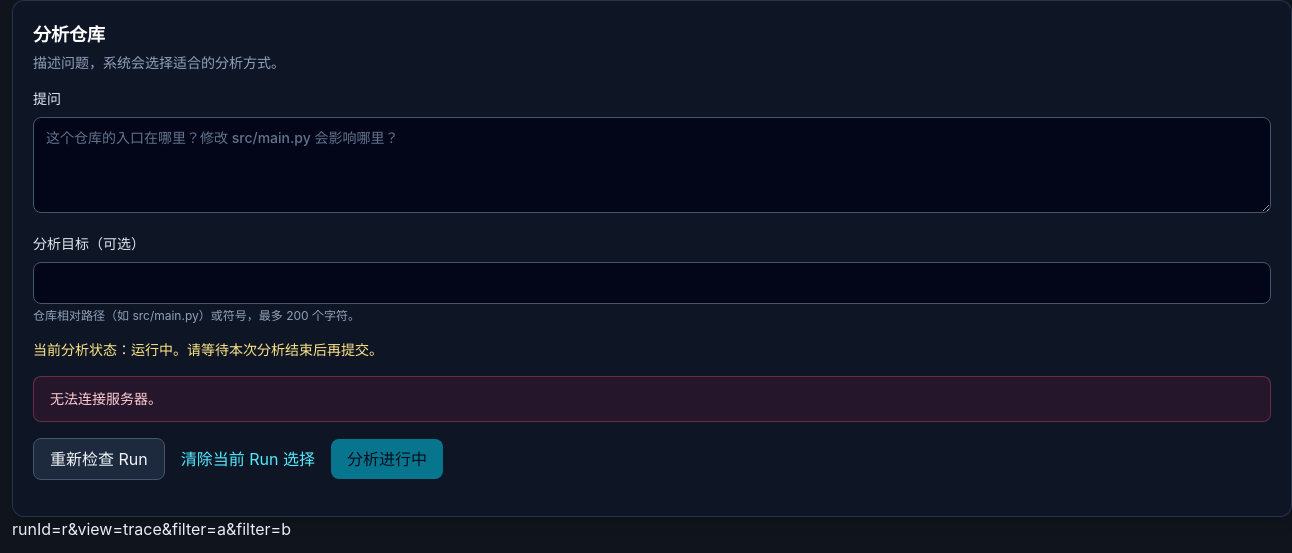
Test case: allows exiting a cached active Run after a failed status refresh
Expected: the message "无法连接服务器。" is shown, top-left (33, 376), bottom-right (1271, 422)
In the text box labelled "提问": (652, 165) top-left (33, 117), bottom-right (1271, 213), type "Question"
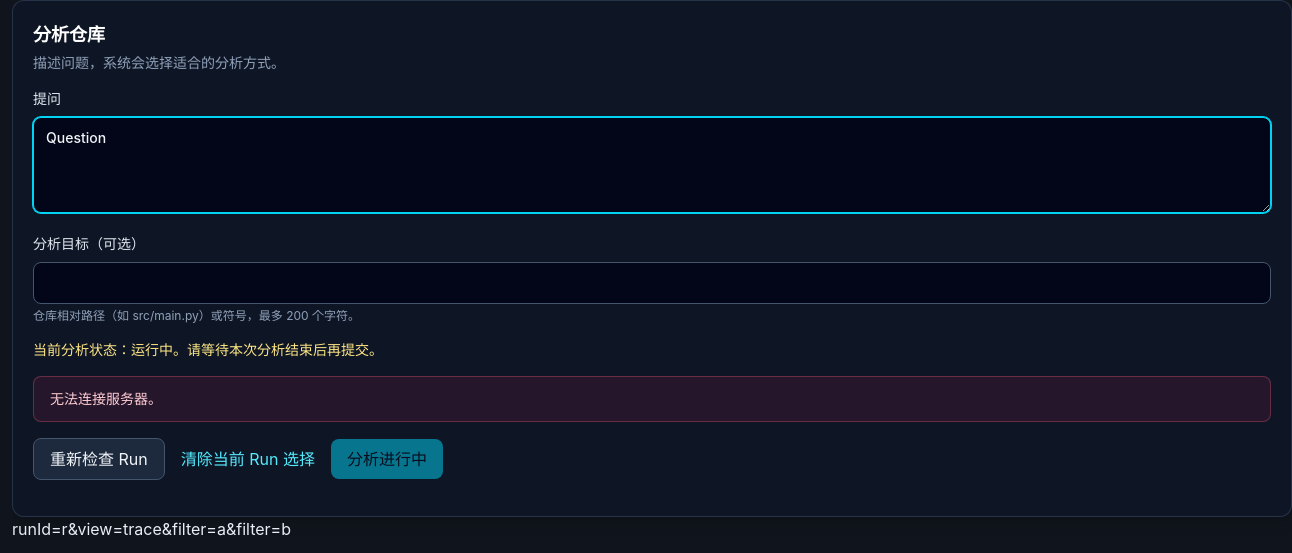
Expected: the button "分析进行中" is disabled, top-left (331, 439), bottom-right (443, 479)
Click the button "清除当前 Run 选择": (248, 459) top-left (165, 439), bottom-right (331, 479)
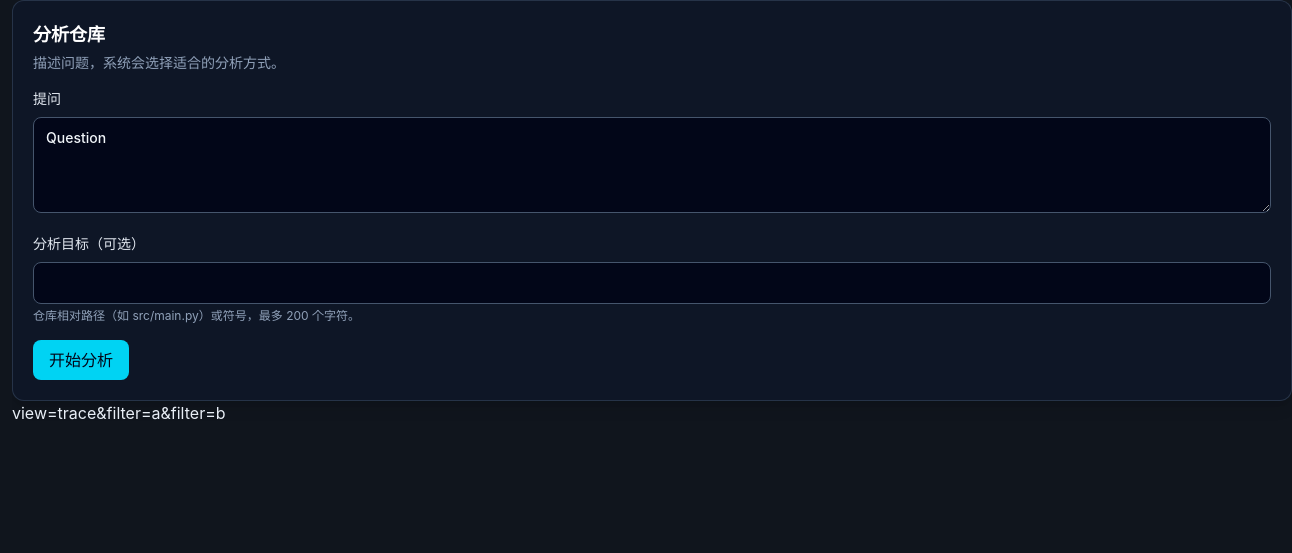
Now the button "开始分析" is enabled, box top-left (33, 340), bottom-right (129, 380)
